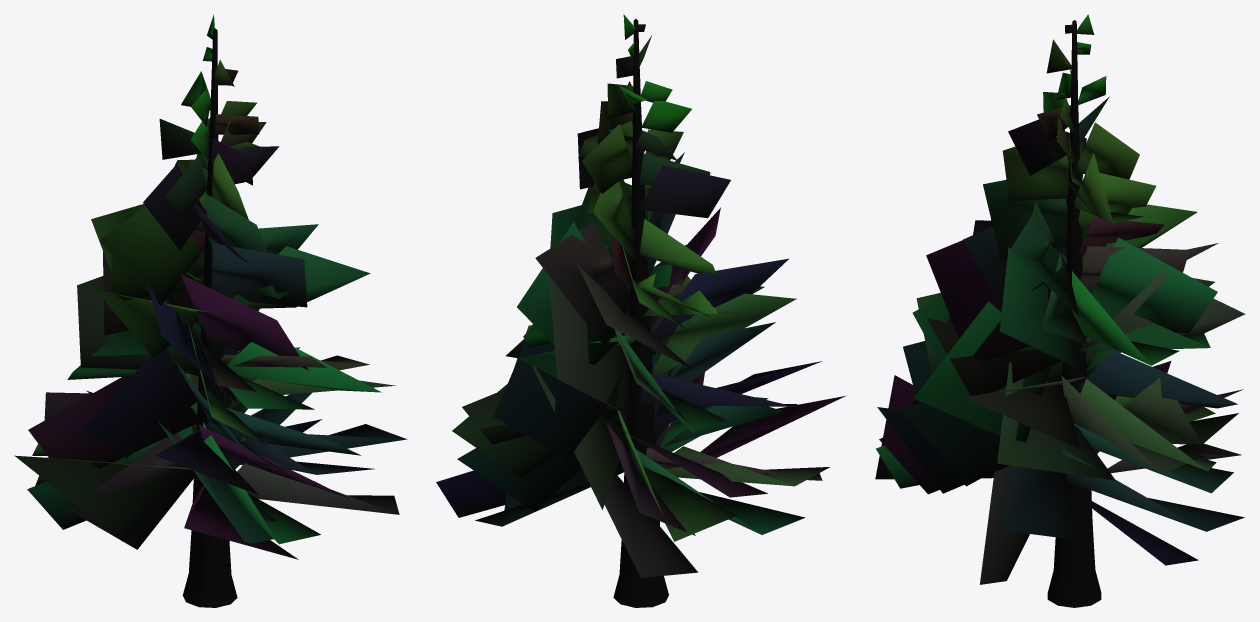
Rendered from PineSmall.FBX.
3 views of the same model, side by side, from view 1: azimuth 30°, elevation 25°; view 2: azimuth 150°, elevation 25°; view 3: azimuth 270°, elevation 25° (orthographic). The views are drawn at different scales.
Visible parts, largest first — view 1: Tree_0; view 2: Tree_0; view 3: Tree_0.
Part boxes in pixels (box(x1,y1,x2,y2)): Tree_0: box(14, 14, 406, 607); Tree_0: box(436, 14, 846, 607); Tree_0: box(875, 14, 1245, 607).
Bounding box in the file's own units: 58.19 × 95.21 × 54.43.
